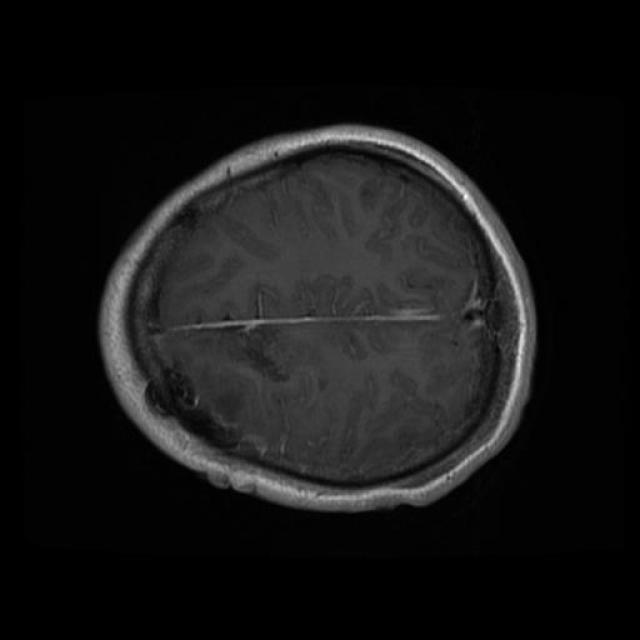Glioma: (215, 325, 288, 380), (155, 365, 198, 413)
